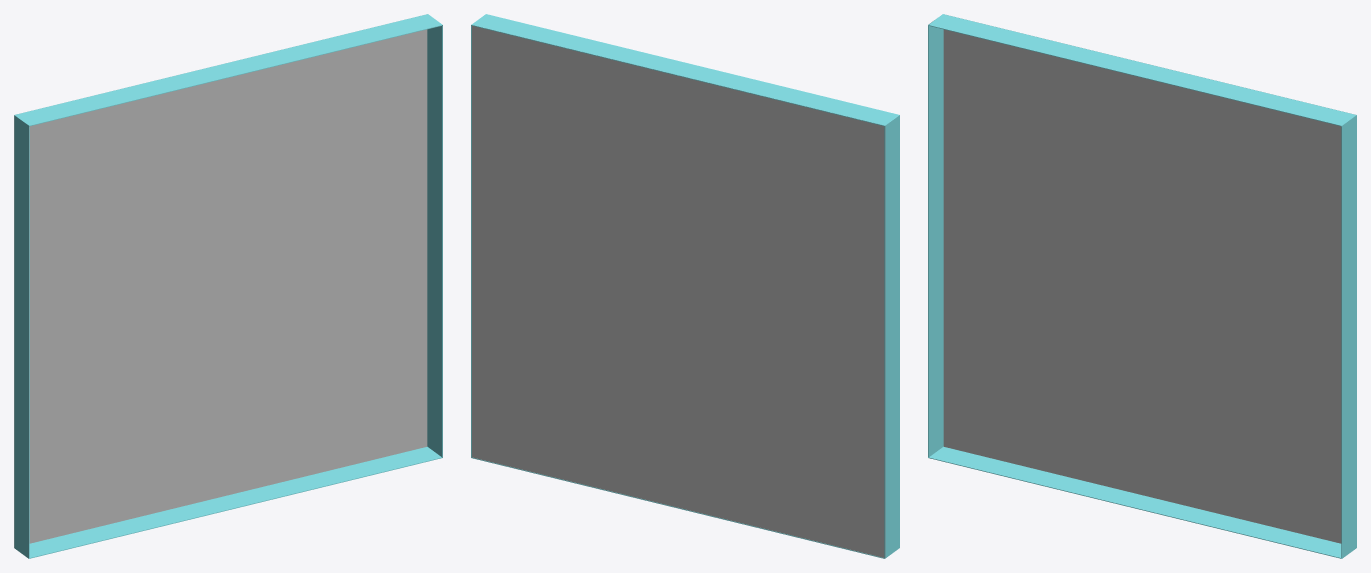
Rendered from Arena_old.obj.
3 renders of one model, left to right at view 1: azimuth 30°, elevation 25°; view 2: azimuth 150°, elevation 25°; view 3: azimuth 330°, elevation 25°, orthographic.
Parts seen in each view (by area): view 1: Plane, arena_frame_Body1.001; view 2: Plane, arena_frame_Body1.001; view 3: Plane, arena_frame_Body1.001.
Part boxes in pixels (left/top/right/bottom): Plane: left=14, top=29, right=427, bottom=547; arena_frame_Body1.001: left=14, top=14, right=442, bottom=558; Plane: left=472, top=25, right=885, bottom=558; arena_frame_Body1.001: left=471, top=14, right=899, bottom=558; Plane: left=943, top=29, right=1341, bottom=543; arena_frame_Body1.001: left=928, top=14, right=1356, bottom=558.
Bounding box in the file's own units: 8 × 8 × 0.502.
